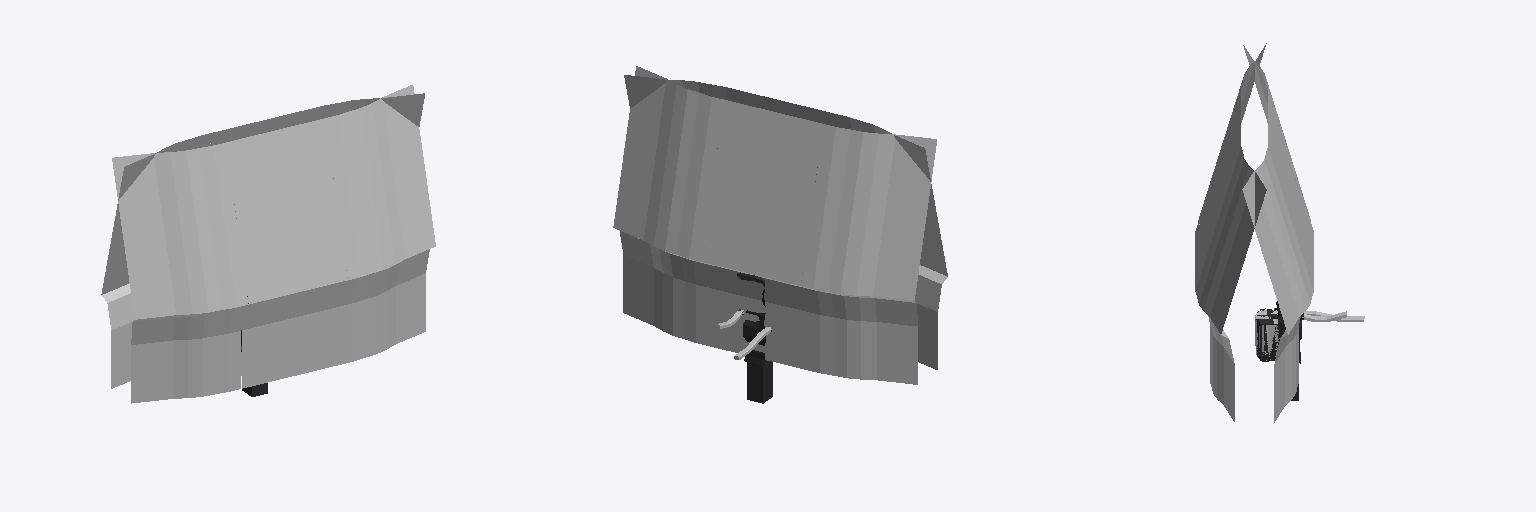
File: Uphill_Revived.obj
3 views of the same model, side by side, from view 1: azimuth 30°, elevation 25°; view 2: azimuth 150°, elevation 25°; view 3: azimuth 270°, elevation 25° (orthographic).
Visible parts, largest first — view 1: Cube.009, Cube.006; view 2: Cube.009, Cube.006, Box_Brush45_StaticMesh, Plane; view 3: Cube.009, Cube.006, Cube.001.
Boxes of the visible parts, <box> form: Cube.009: <box>101,85,435,403</box>; Cube.006: <box>210,109,347,388</box>; Cube.009: <box>613,66,947,384</box>; Cube.006: <box>702,90,838,369</box>; Box_Brush45_StaticMesh: <box>747,361,772,403</box>; Plane: <box>737,272,769,365</box>; Cube.009: <box>1195,43,1313,422</box>; Cube.006: <box>1195,94,1313,285</box>; Cube.001: <box>1255,309,1364,360</box>.
Bounding box in the file's own units: 1215 × 1077 × 590.